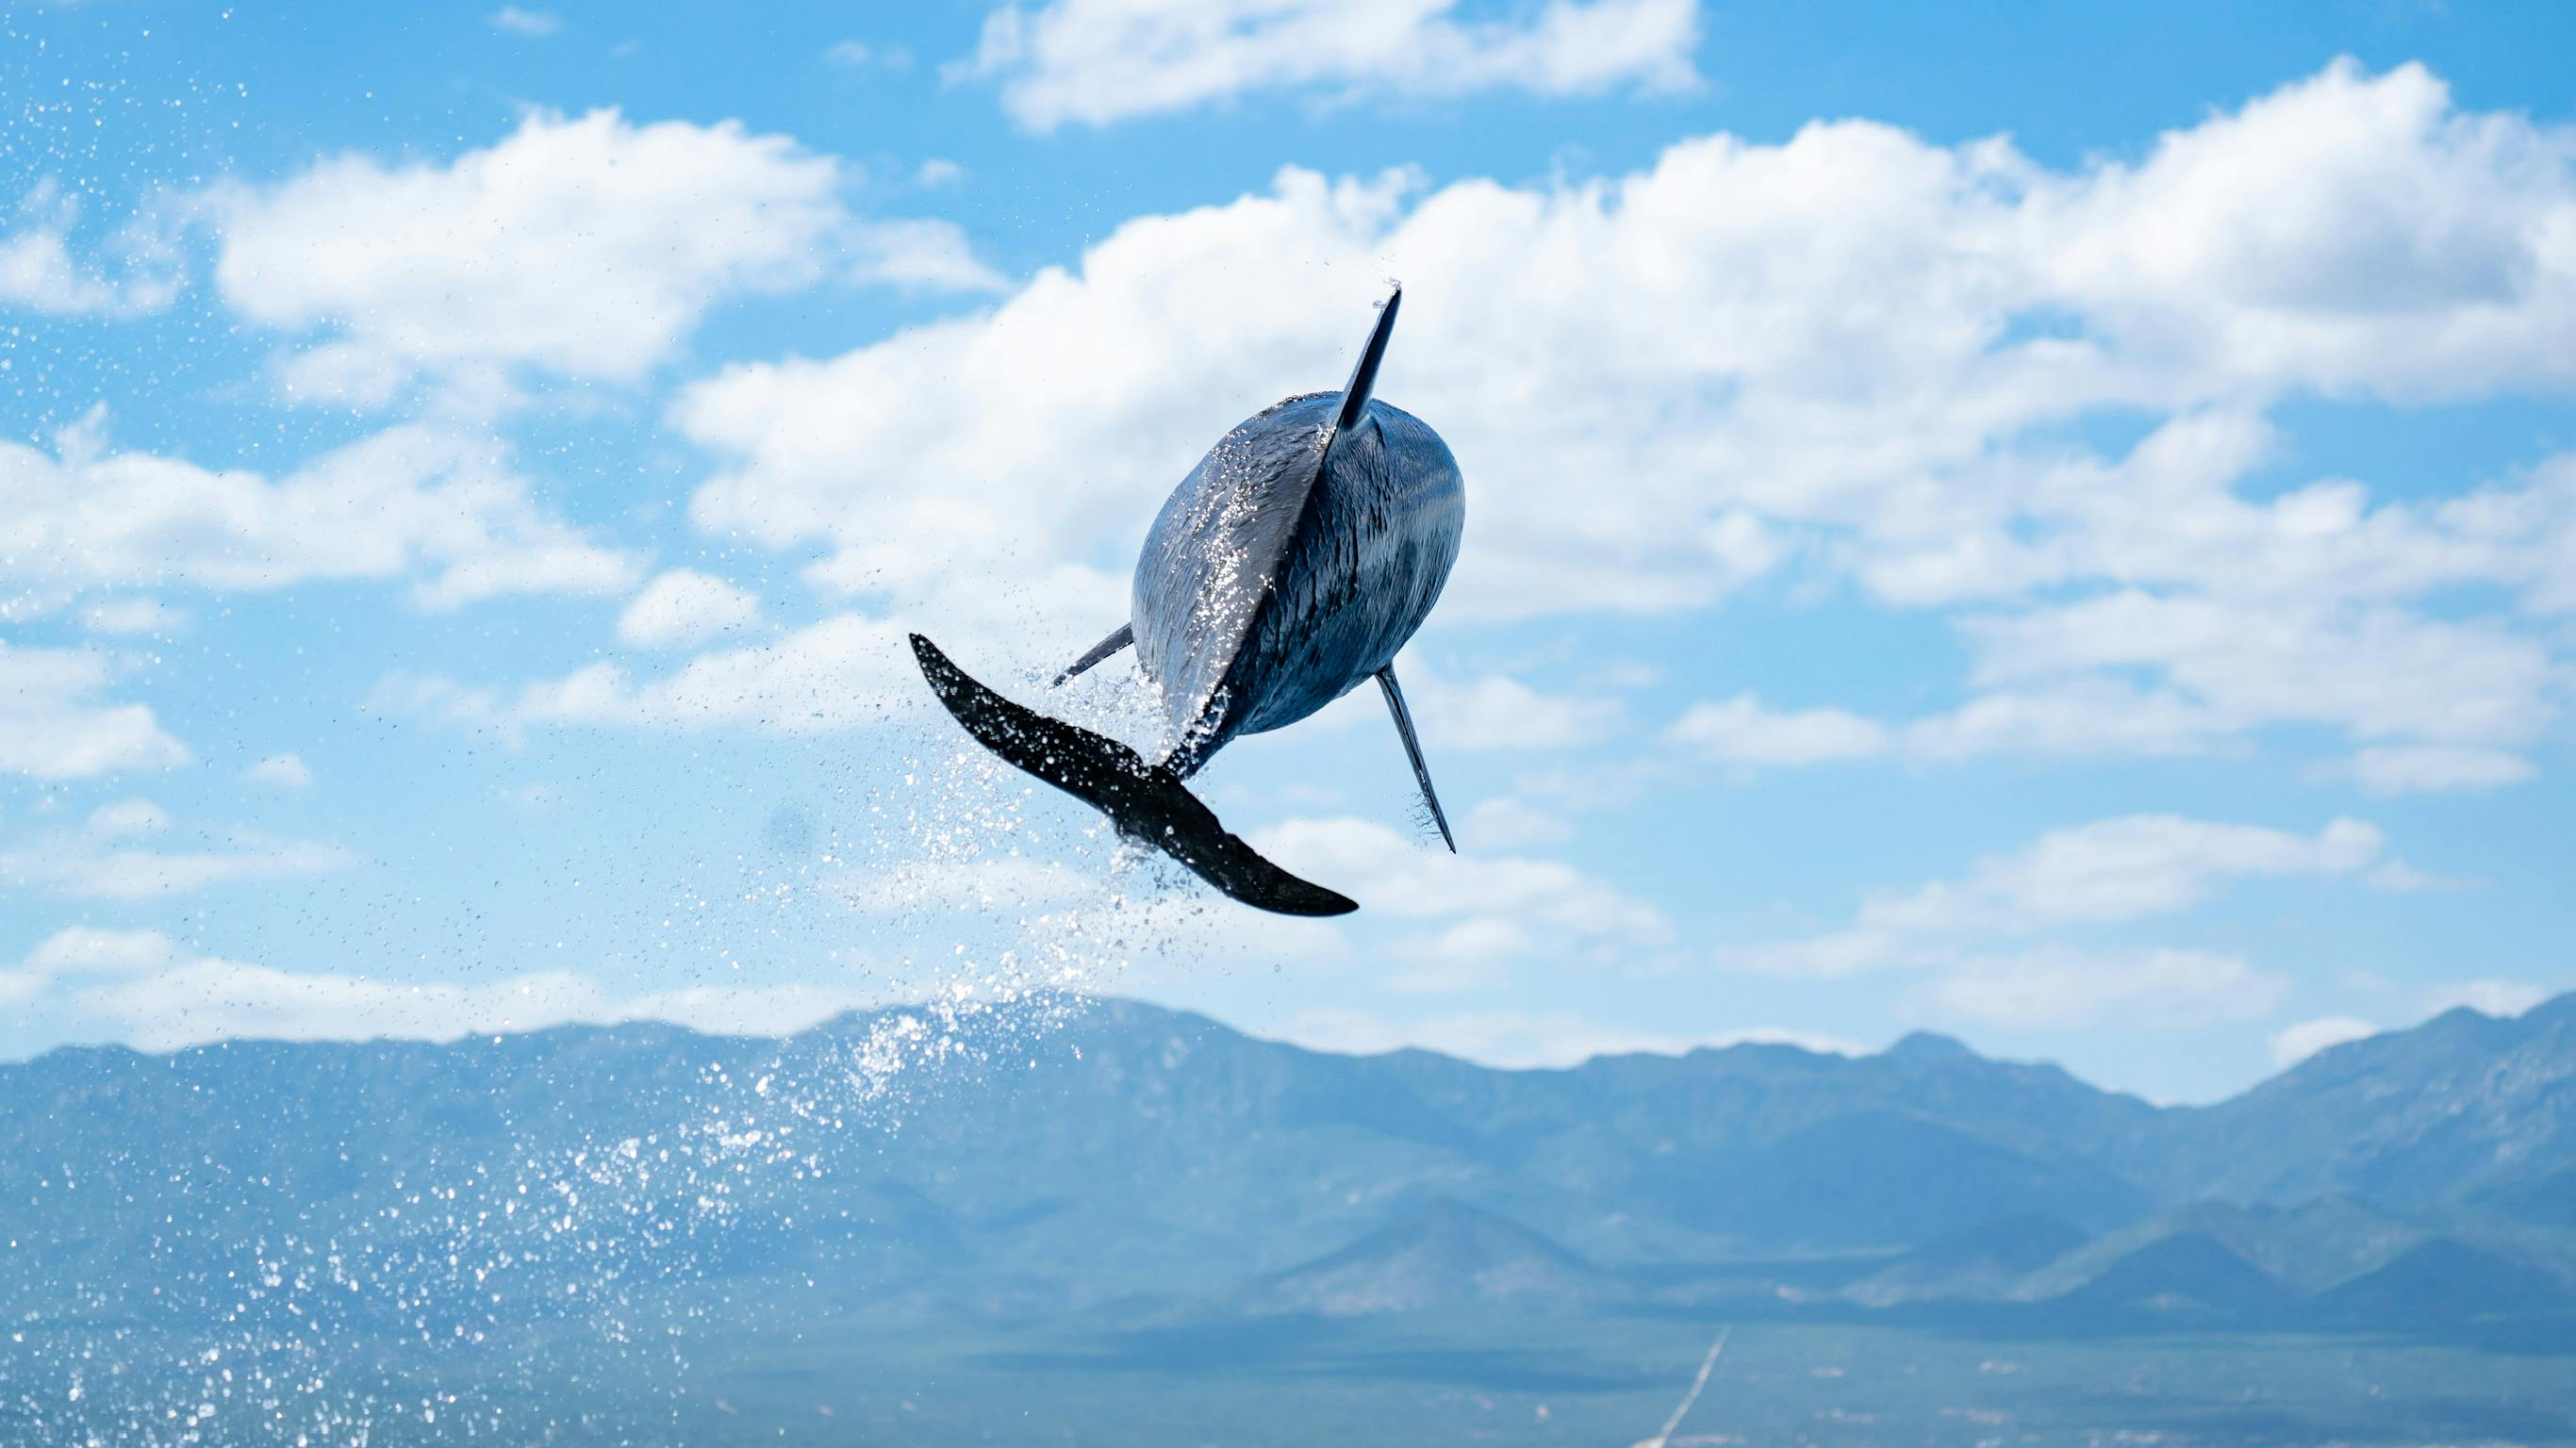dolphin: (901, 285, 1470, 925)
